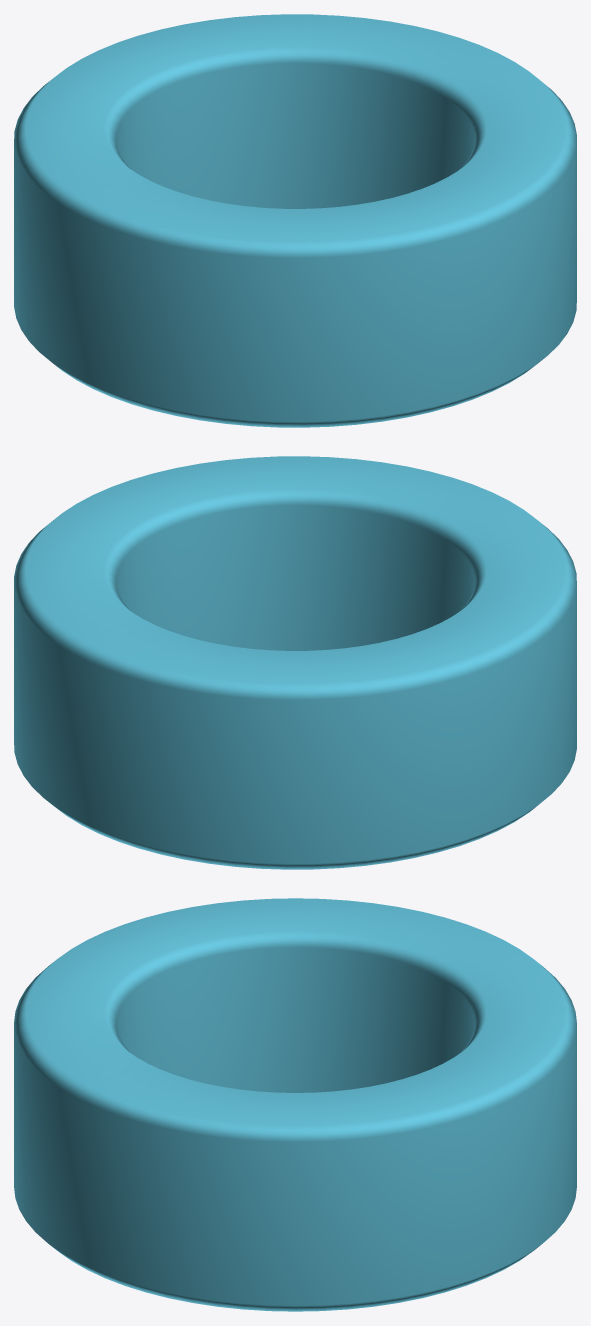
3 renders of one model, top to bottom at view 1: azimuth 30°, elevation 25°; view 2: azimuth 150°, elevation 25°; view 3: azimuth 270°, elevation 25°, orthographic.
Parts seen in each view (by area): view 1: seal_body; view 2: seal_body; view 3: seal_body.
Part boxes in pixels (x1,y1,x2,y2): seal_body: [14, 14, 576, 427]; seal_body: [14, 456, 576, 869]; seal_body: [14, 898, 576, 1311].
Size of the model in its own units: 0.0174 by 0.00635 by 0.0174.
